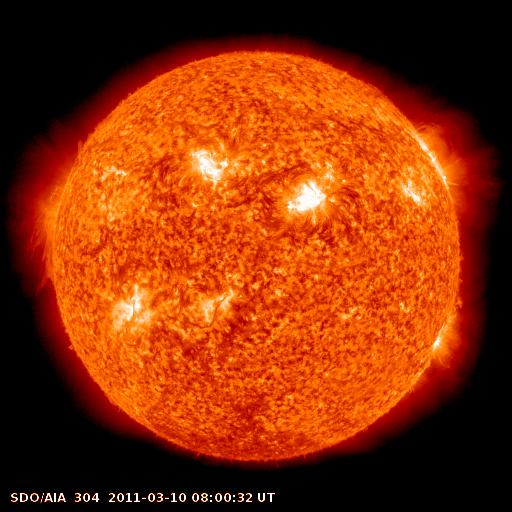prominence: (1, 175, 77, 301), (448, 248, 474, 315)
